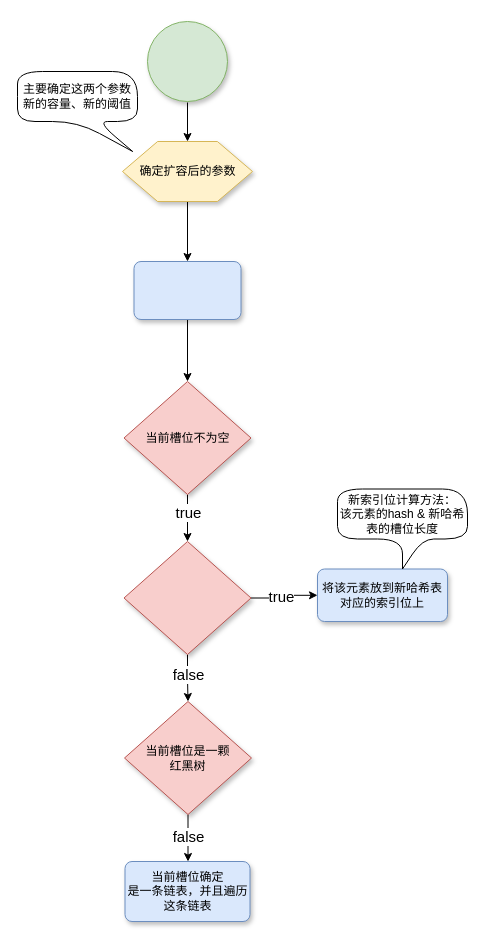
This 485x946 diagram has some shape labels left out. Each missing label, with the centre of its shape:
"resize" goes at point (188, 62).
"当前槽位只有 一个元素" goes at point (188, 599).
"遍历原来的哈希表" goes at point (188, 291).
